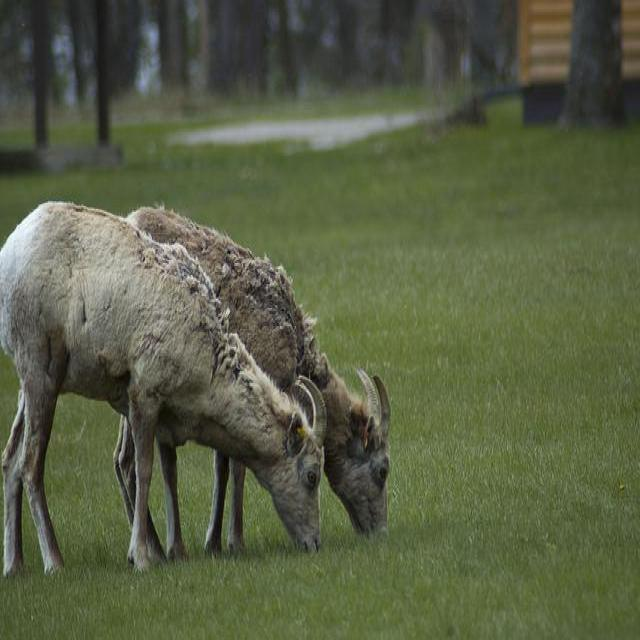Sheep: (0, 200, 325, 586), (128, 206, 393, 535)
